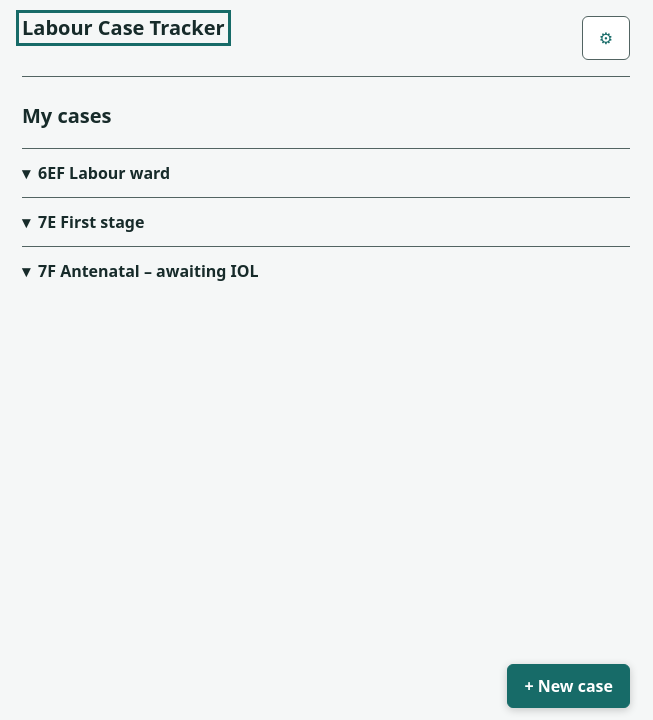
Test: App › rejects reversed thresholds without saving them
Click the button named "Settings" at (606, 38), box [582, 16, 630, 60]
(page scrolled)
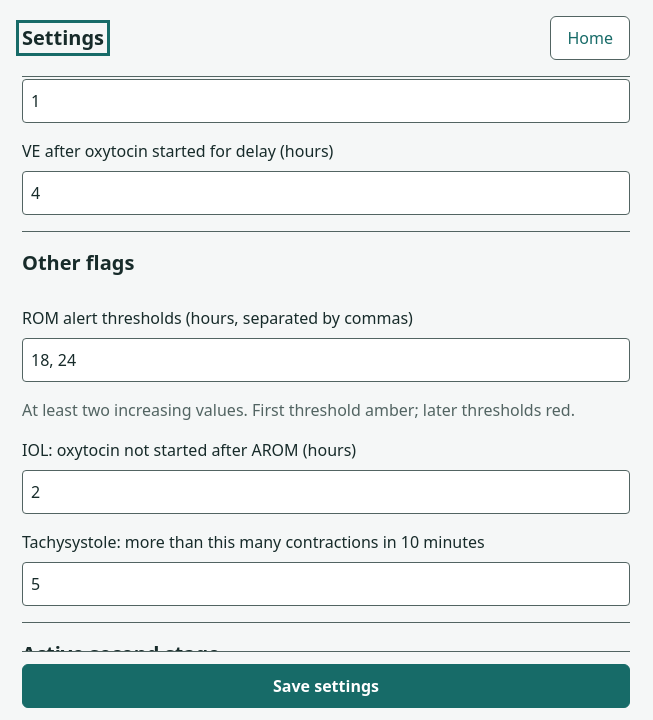
Replace the text in the field labelled "ROM alert thresholds (hours, separated by commas)" with "24, 18" at (326, 360), box [22, 338, 630, 382]
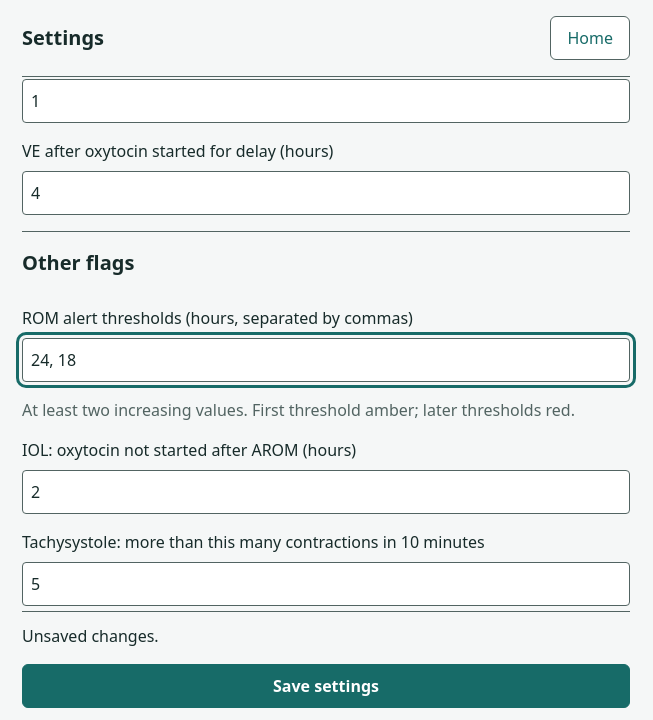
Click the button "Save settings" at (326, 686), box [22, 664, 630, 708]
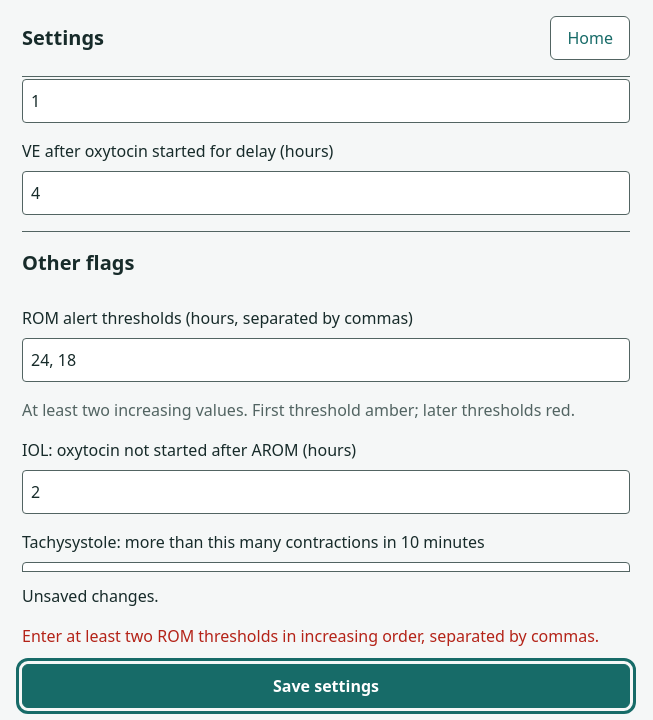
Now the message "Enter at least two ROM thresholds in increasing order, separated by commas." is shown, box [22, 624, 630, 648]
